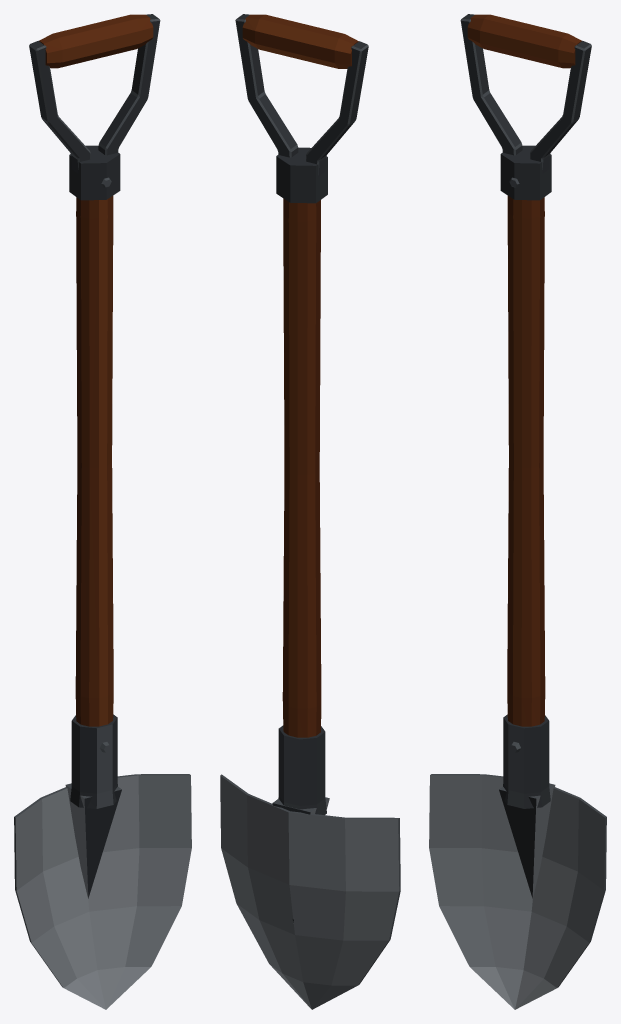
The model's file is Mining Shovel.obj.
3 renders of one model, left to right at view 1: azimuth 30°, elevation 25°; view 2: azimuth 150°, elevation 25°; view 3: azimuth 330°, elevation 25°, orthographic.
Visible parts, largest first — view 1: Mining_Shovel.Static; view 2: Mining_Shovel.Static; view 3: Mining_Shovel.Static.
Part boxes in pixels (x1=…): Mining_Shovel.Static: x1=14, y1=14, x2=191, y2=1009; Mining_Shovel.Static: x1=220, y1=14, x2=400, y2=1009; Mining_Shovel.Static: x1=429, y1=14, x2=606, y2=1009.
Bounding box in the file's own units: 0.224 × 1.19 × 0.058.
